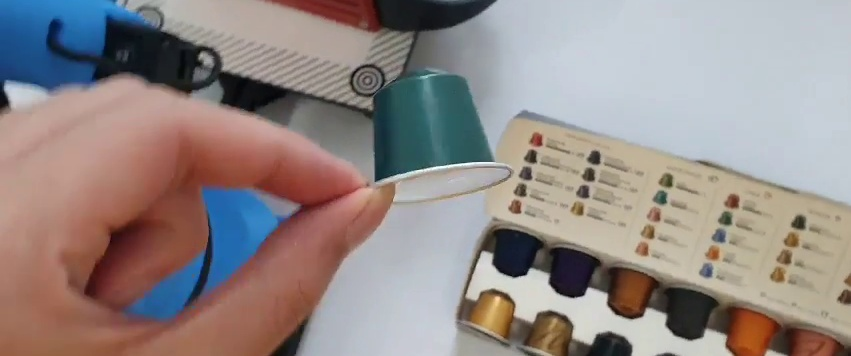capsule_13: (365, 66, 519, 203)
